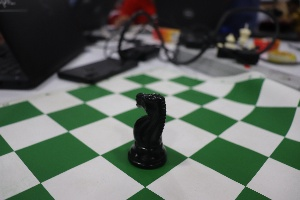black_horse: (120, 79, 173, 170)
